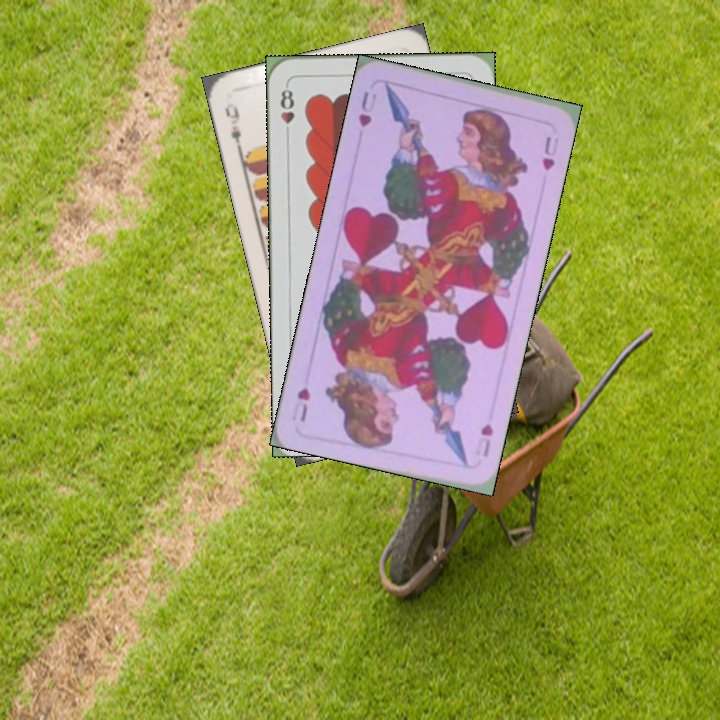E9: (220, 99, 245, 155)
H8: (277, 81, 297, 140)
HU: (354, 87, 380, 131), (471, 419, 496, 460)
